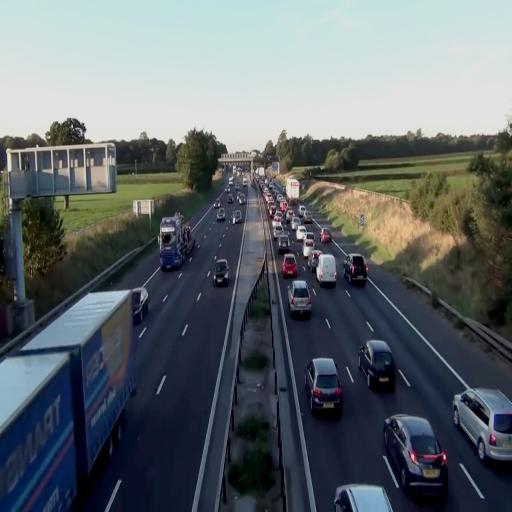vehicle: (0, 287, 140, 502), (382, 414, 448, 499), (453, 388, 512, 465), (306, 356, 342, 416), (358, 339, 396, 388), (333, 482, 393, 511), (158, 216, 183, 270), (158, 215, 182, 271), (288, 278, 312, 318), (130, 287, 149, 322), (316, 254, 336, 286), (347, 254, 367, 284), (211, 256, 230, 286), (282, 254, 298, 280), (232, 208, 244, 224), (232, 210, 241, 224), (217, 206, 225, 220)
